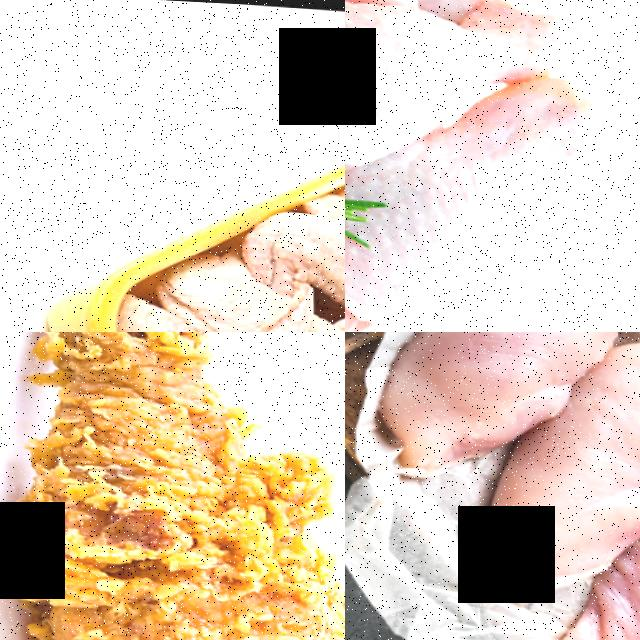chicken breast: (523, 332, 640, 562), (364, 332, 584, 439)
chicken thigh: (345, 93, 603, 332), (345, 0, 565, 166)
chicken wing: (117, 275, 325, 332)
